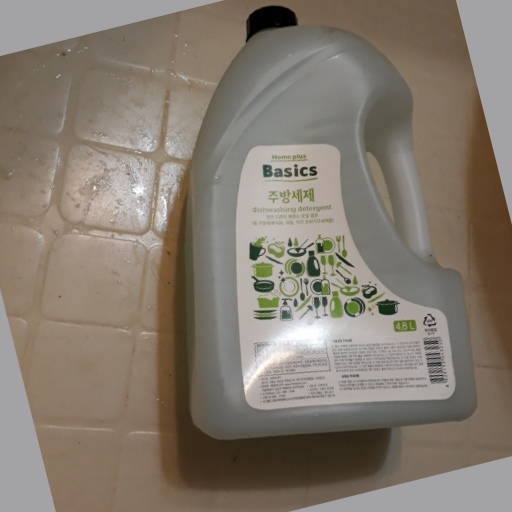Plastic_1: (190, 9, 474, 430)
